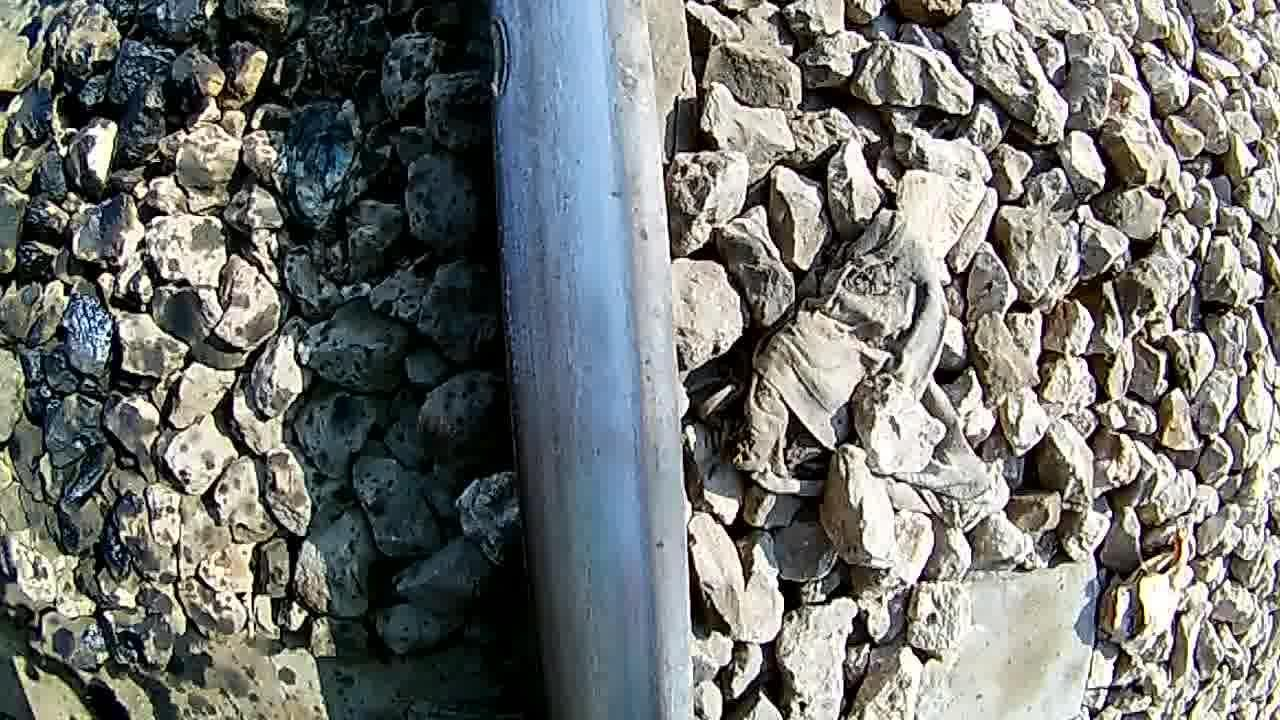crack: (489, 101, 690, 720)
